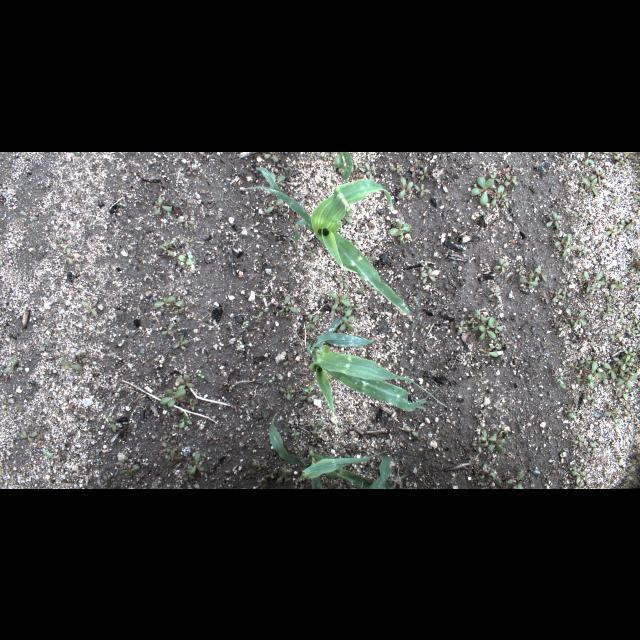crop: (243, 166, 415, 328), (307, 314, 445, 434), (268, 412, 408, 488), (338, 152, 352, 180)
weed: (471, 175, 509, 207), (468, 314, 497, 340), (580, 360, 606, 388), (550, 232, 576, 258), (159, 387, 191, 407), (388, 218, 412, 244), (579, 270, 605, 292), (272, 295, 298, 315), (328, 290, 352, 310), (562, 308, 586, 328), (486, 431, 506, 453), (616, 368, 638, 388), (420, 266, 444, 284), (267, 170, 287, 190), (60, 352, 82, 370), (2, 356, 24, 374), (332, 154, 354, 172), (474, 463, 496, 481), (526, 264, 548, 282), (153, 294, 185, 306), (164, 448, 183, 468), (18, 208, 38, 226), (153, 196, 173, 214), (274, 467, 294, 485), (189, 452, 205, 474), (397, 176, 413, 198), (580, 177, 598, 196), (171, 334, 189, 352), (479, 428, 497, 446), (470, 437, 490, 453), (519, 272, 539, 288), (304, 313, 320, 332), (176, 375, 194, 391), (338, 314, 354, 332), (508, 470, 524, 488), (587, 166, 603, 184), (176, 213, 196, 227), (494, 257, 511, 273), (604, 402, 618, 421), (300, 387, 316, 403), (344, 302, 360, 318), (503, 171, 519, 187), (545, 212, 561, 228), (602, 362, 618, 378), (20, 428, 38, 442), (266, 198, 284, 212), (608, 276, 626, 290), (61, 247, 74, 266), (179, 409, 191, 429), (334, 210, 354, 222), (364, 160, 376, 180), (80, 300, 96, 314), (178, 250, 194, 264), (309, 420, 323, 436), (475, 308, 489, 324), (487, 319, 503, 333), (604, 222, 618, 238), (598, 303, 612, 319), (414, 182, 431, 195), (355, 282, 373, 294), (120, 464, 140, 474), (404, 424, 418, 438), (454, 320, 468, 334), (550, 288, 564, 302), (612, 154, 626, 168), (158, 243, 174, 255), (160, 322, 176, 334), (550, 376, 566, 388), (576, 373, 592, 385), (610, 327, 622, 343), (322, 478, 340, 488), (482, 347, 500, 357), (493, 479, 511, 489), (622, 354, 632, 371), (72, 189, 84, 203), (305, 244, 317, 258), (337, 275, 349, 289), (408, 163, 420, 177), (573, 434, 585, 448), (580, 212, 594, 224), (583, 151, 595, 165), (624, 216, 636, 230), (620, 317, 632, 331), (251, 461, 267, 471), (263, 151, 279, 161), (585, 441, 597, 454), (264, 468, 278, 479), (342, 454, 353, 468), (418, 166, 429, 180), (621, 351, 635, 362), (182, 469, 194, 481), (252, 310, 264, 322), (488, 286, 500, 298), (586, 394, 598, 406), (568, 360, 580, 372), (107, 416, 117, 430), (361, 251, 375, 261), (420, 258, 430, 272), (540, 290, 550, 304), (625, 403, 635, 417), (622, 297, 636, 307), (616, 304, 626, 318), (337, 304, 353, 312), (618, 219, 626, 235), (632, 258, 640, 274), (42, 448, 54, 458), (162, 430, 174, 440), (161, 442, 173, 452), (276, 161, 288, 171), (340, 205, 352, 215), (490, 170, 500, 182), (500, 337, 512, 347), (475, 408, 487, 418), (496, 424, 508, 434), (516, 264, 526, 276), (543, 209, 555, 219), (562, 287, 572, 299), (586, 334, 596, 346), (577, 244, 587, 256), (601, 275, 611, 287), (608, 290, 618, 302), (624, 346, 636, 356), (56, 236, 70, 244), (389, 164, 403, 172), (566, 411, 580, 419), (578, 356, 592, 364), (180, 402, 190, 413), (352, 166, 362, 177), (467, 317, 478, 327), (570, 470, 588, 476), (573, 466, 579, 484), (573, 479, 585, 488), (102, 475, 112, 485), (161, 420, 171, 430), (246, 469, 256, 479), (281, 356, 291, 366), (362, 215, 372, 225), (354, 161, 364, 171), (558, 322, 568, 332), (630, 454, 640, 464), (621, 392, 631, 402), (574, 210, 584, 220), (624, 267, 634, 277), (620, 368, 630, 378), (602, 378, 612, 388), (628, 326, 638, 336), (80, 351, 88, 363), (164, 238, 176, 246), (188, 399, 196, 411), (278, 386, 286, 398), (280, 388, 296, 394), (320, 186, 328, 198), (505, 162, 517, 170), (490, 342, 502, 350), (618, 223, 634, 229), (614, 356, 626, 364), (628, 356, 636, 368), (50, 200, 54, 223), (51, 230, 60, 240), (468, 460, 479, 468), (634, 317, 640, 331), (209, 248, 219, 256), (204, 353, 212, 363), (184, 386, 194, 394), (304, 385, 314, 393), (264, 312, 274, 320), (284, 162, 294, 170), (324, 442, 334, 450), (378, 164, 388, 172), (414, 158, 424, 166), (476, 476, 484, 486), (550, 318, 558, 328), (613, 390, 621, 400), (629, 282, 639, 290), (186, 237, 194, 246), (207, 433, 216, 441), (608, 196, 620, 202), (163, 223, 171, 231), (170, 335, 178, 343), (186, 153, 194, 161), (258, 479, 266, 487), (268, 375, 276, 383), (298, 310, 306, 318), (496, 328, 504, 336), (561, 151, 569, 159), (556, 156, 564, 164), (592, 355, 600, 363), (614, 419, 622, 427), (628, 261, 636, 269), (630, 353, 638, 361), (174, 307, 184, 313), (290, 431, 300, 437), (320, 269, 330, 275), (479, 260, 489, 266), (564, 175, 570, 185), (570, 388, 580, 394), (551, 468, 561, 474), (588, 290, 594, 300), (610, 187, 616, 197), (576, 152, 586, 158), (604, 291, 610, 301), (288, 385, 292, 399), (37, 426, 41, 439), (190, 371, 196, 379), (342, 433, 348, 441), (504, 431, 510, 439), (561, 314, 567, 322), (601, 292, 607, 300), (614, 308, 618, 320), (604, 168, 608, 178), (198, 372, 204, 378), (633, 193, 639, 199), (614, 376, 620, 382), (118, 202, 126, 206), (242, 320, 250, 324), (320, 311, 324, 319), (256, 294, 270, 296), (74, 151, 80, 155), (77, 356, 81, 362), (206, 250, 212, 254), (542, 165, 546, 171), (562, 448, 568, 452), (582, 290, 588, 294), (567, 410, 577, 412), (603, 152, 613, 154), (198, 152, 204, 154)
